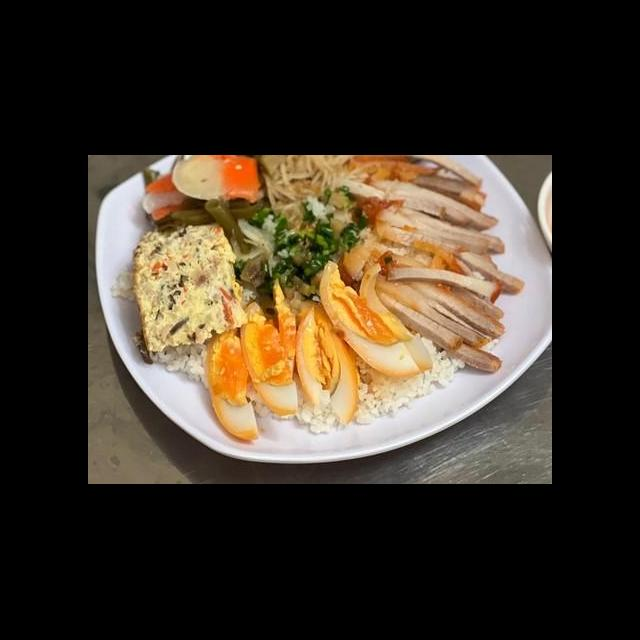bi: (408, 277, 552, 346)
cha: (129, 225, 249, 344)
com: (165, 342, 298, 424), (219, 197, 294, 242)
com suon bi cha trung: (99, 179, 552, 478)
dua chua: (435, 191, 552, 285)
suon: (239, 337, 552, 466)
trung: (270, 184, 460, 270), (234, 318, 406, 402), (323, 266, 431, 376), (170, 297, 349, 349)
